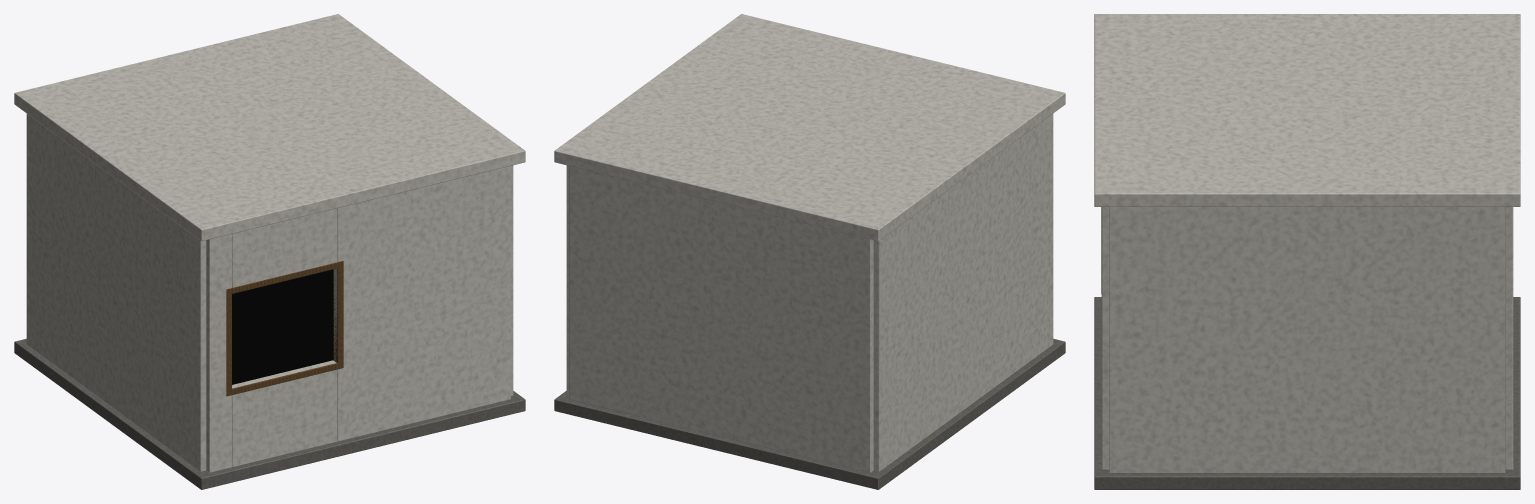
The model's file is PurgatoryOffice.fbx.
3 renders of one model, left to right at view 1: azimuth 30°, elevation 25°; view 2: azimuth 150°, elevation 25°; view 3: azimuth 270°, elevation 25°, orthographic. The views are drawn at different scales.
Visible parts, largest first — view 1: SM_Ceiling, SM_Wall_Left, SM_Wall_Front_R, SM_WindowGlass, SM_Floor, SM_Wall_Front_Bot, SM_Wall_Front_Top, SM_Wall_Front_L, SM_WinFrame_R, SM_WinFrame_Sill, SM_WinFrame_Top, SM_Wall_Right (+1 smaller); view 2: SM_Wall_Back, SM_Ceiling, SM_Wall_Left, SM_Floor, SM_Wall_Right; view 3: SM_Wall_Right, SM_Ceiling, SM_Floor, SM_Wall_Back, SM_Wall_Front_R.
Boxes of the visible parts, box(x1,y1,x2,y2) form: SM_Ceiling: box(14, 14, 525, 241); SM_Wall_Left: box(26, 114, 206, 471); SM_Wall_Front_R: box(333, 166, 510, 441); SM_WindowGlass: box(232, 269, 333, 384); SM_Floor: box(14, 338, 525, 489); SM_Wall_Front_Bot: box(232, 360, 337, 467); SM_Wall_Front_Top: box(232, 208, 337, 287); SM_Wall_Front_L: box(206, 234, 231, 472); SM_WinFrame_R: box(333, 261, 343, 368); SM_WinFrame_Sill: box(227, 360, 343, 395); SM_WinFrame_Top: box(226, 261, 343, 294); SM_Wall_Right: box(511, 165, 513, 396); SM_Wall_Back: box(569, 166, 873, 472); SM_Ceiling: box(554, 14, 1065, 241); SM_Wall_Left: box(873, 114, 1053, 471); SM_Floor: box(554, 338, 1065, 489); SM_Wall_Right: box(566, 165, 568, 396); SM_Wall_Right: box(1109, 207, 1505, 473); SM_Ceiling: box(1094, 14, 1520, 206); SM_Floor: box(1094, 297, 1520, 489); SM_Wall_Back: box(1505, 207, 1513, 470); SM_Wall_Front_R: box(1101, 207, 1109, 470).
Size of the model in its own units: 4.3 by 3.3 by 4.3.
1 material, 1 textured.
